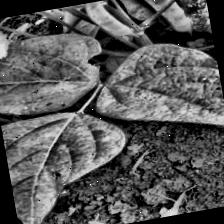ALS: (0, 101, 138, 224), (85, 31, 224, 147), (0, 28, 104, 123), (178, 0, 212, 36)
